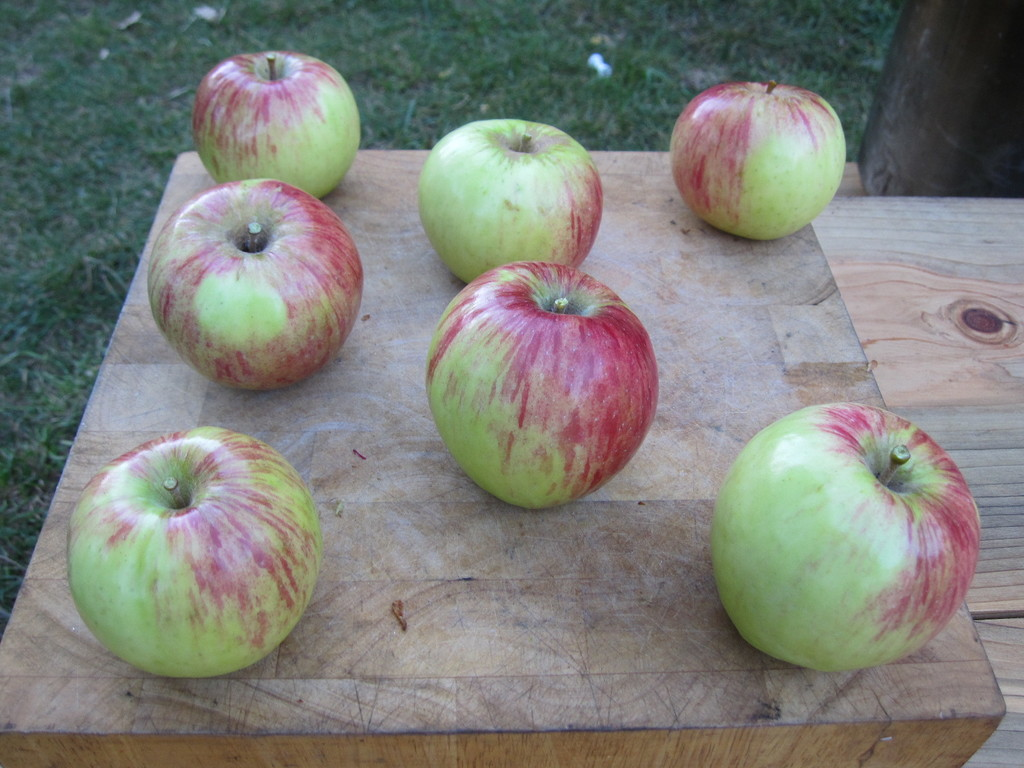Apple: (714, 399, 972, 677), (64, 423, 324, 681), (427, 257, 658, 513), (148, 179, 366, 389), (416, 117, 603, 286), (669, 82, 845, 242), (190, 50, 360, 200)
